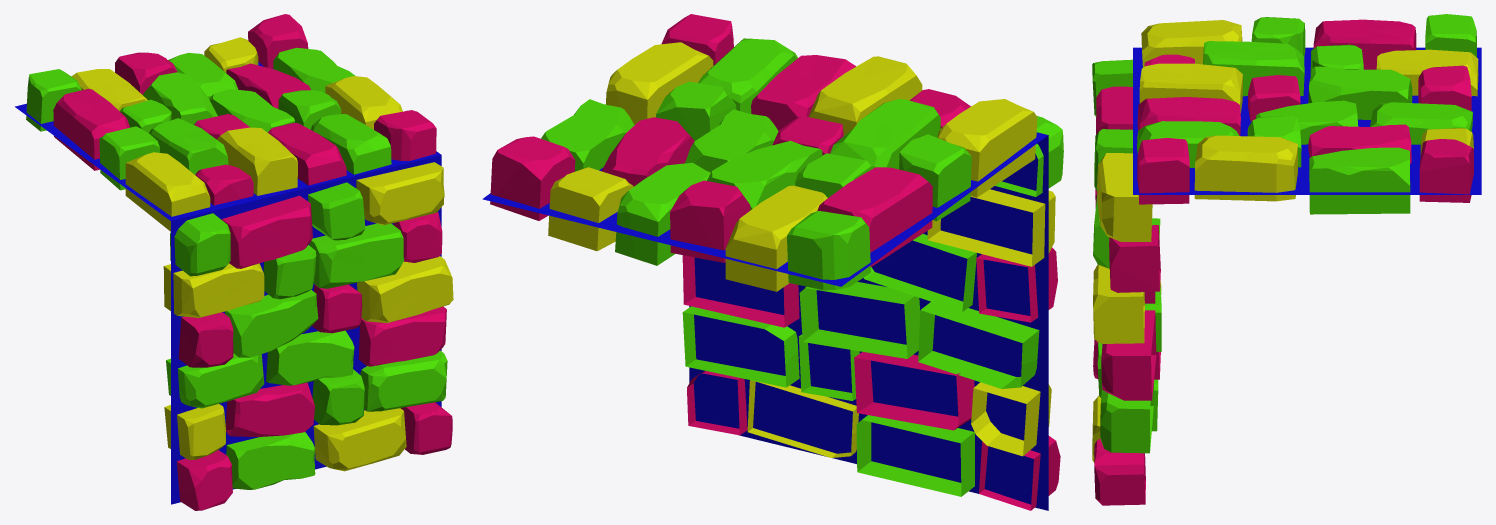
Rendered from Hard-Block1.fbx.
The picture shows the model from 3 angles, left to right: view 1: azimuth 30°, elevation 25°; view 2: azimuth 150°, elevation 25°; view 3: azimuth 270°, elevation 25°; orthographic projection. The views are drawn at different scales.
Visible parts, largest first — view 1: Plane.004; view 2: Plane.004; view 3: Plane.004.
Part boxes in pixels (<box>): Plane.004: <box>15,14,453,510</box>; Plane.004: <box>482,14,1063,510</box>; Plane.004: <box>1092,14,1481,505</box>.
Size of the model in its own units: 100 by 112 by 112.
